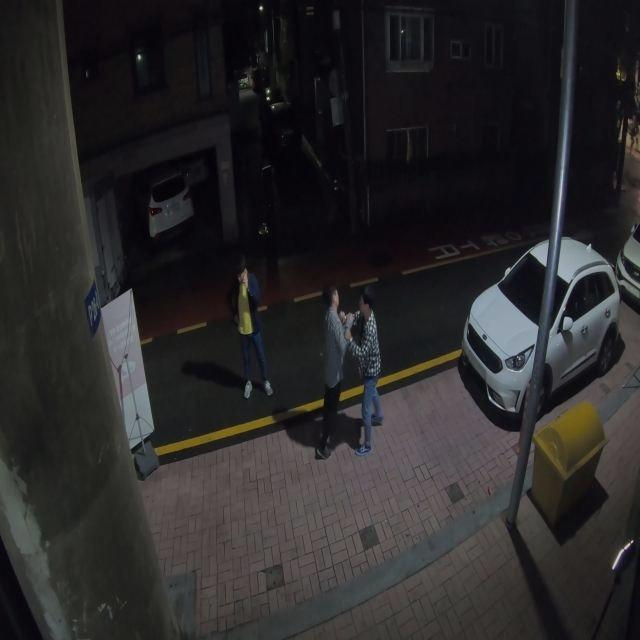fight: (315, 284, 385, 461)
non-fight: (230, 262, 273, 401)
